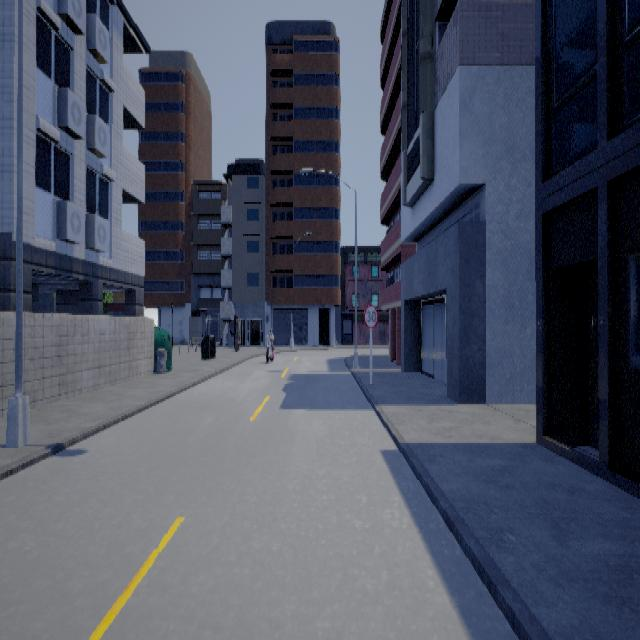motobike: (264, 328, 274, 361)
traffic_sign: (363, 303, 377, 327)
